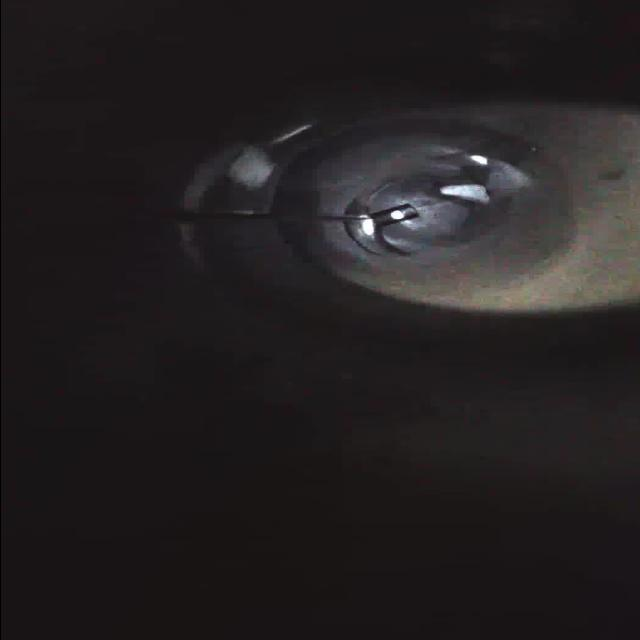impurity: (437, 180, 495, 208)
